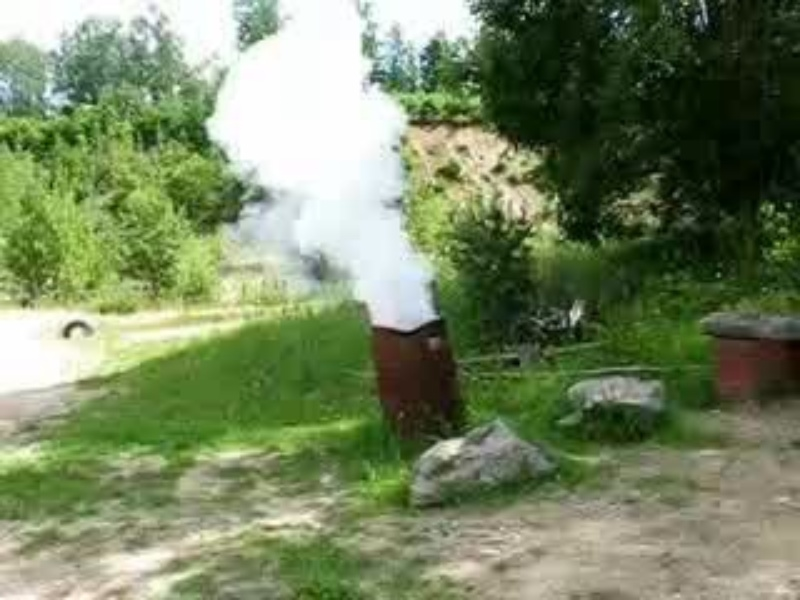smoke: (215, 14, 424, 325)
